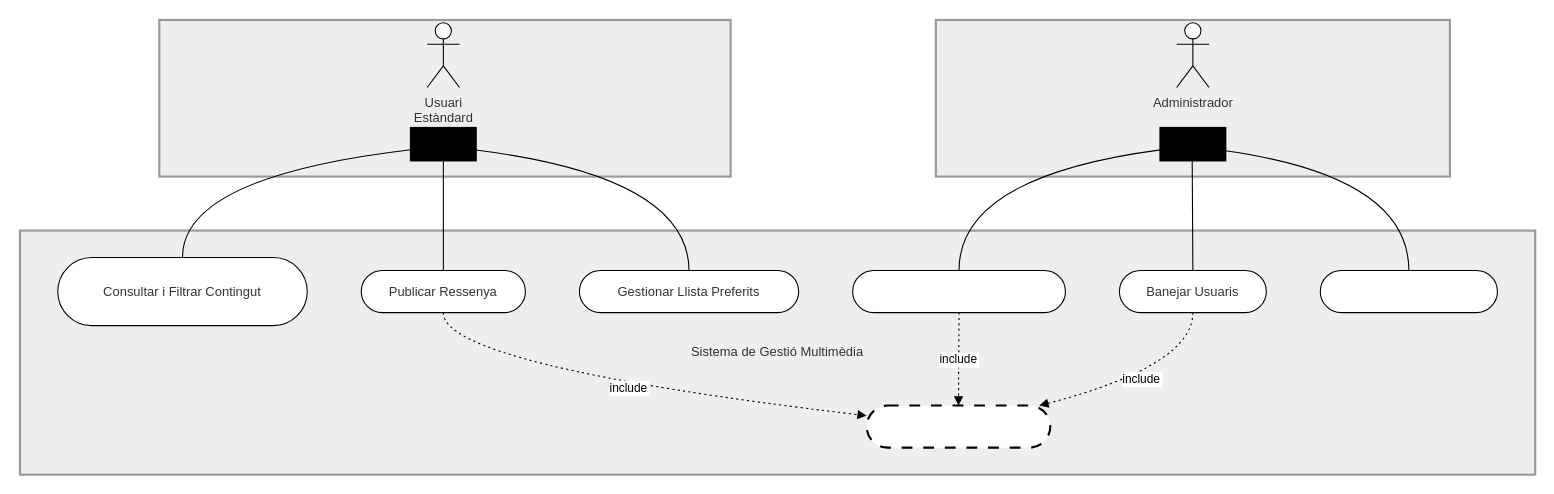
Image size: 1554x494. Some labels were removed from this diagram. The shapes that lost their labels are listed below. From the top down, each one's centre as x and y in pixels, then its label:
At [958,291]: "Gestionar Catàleg CRUD".
At [1408,291]: "Veure Estadístiques".
At [958,426]: "Sistema de Log .TXT".
